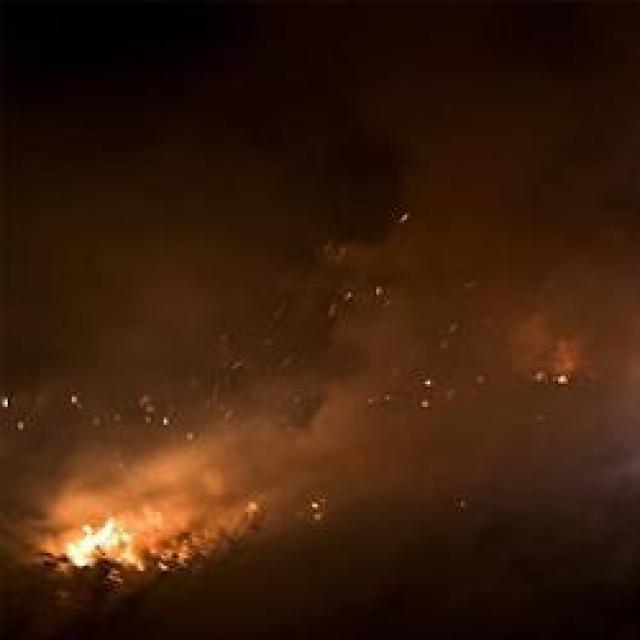Fire: (47, 478, 155, 568), (525, 326, 593, 384)
Smoke: (228, 251, 515, 496), (402, 90, 640, 284)
